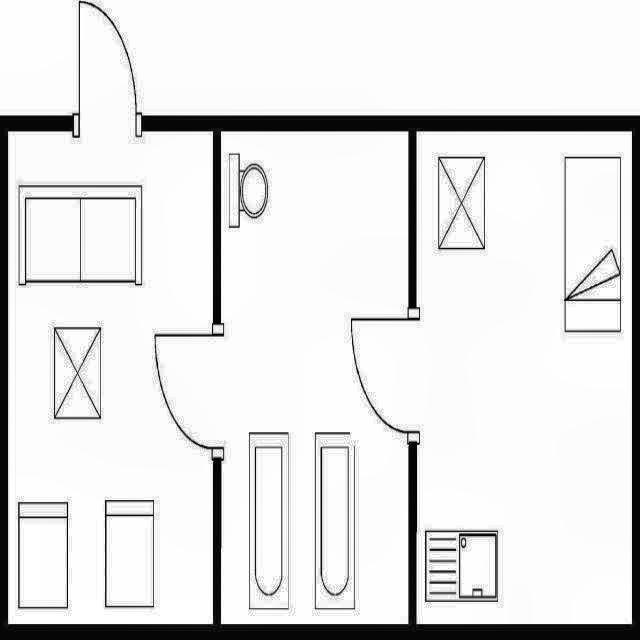room: (416, 131, 632, 624), (8, 131, 213, 624), (221, 131, 408, 624)
